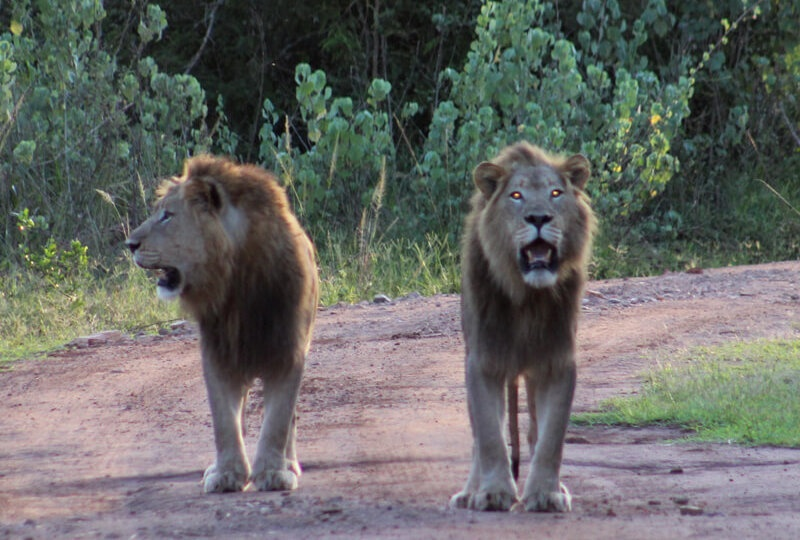lion: (120, 147, 331, 495), (444, 133, 605, 518)
